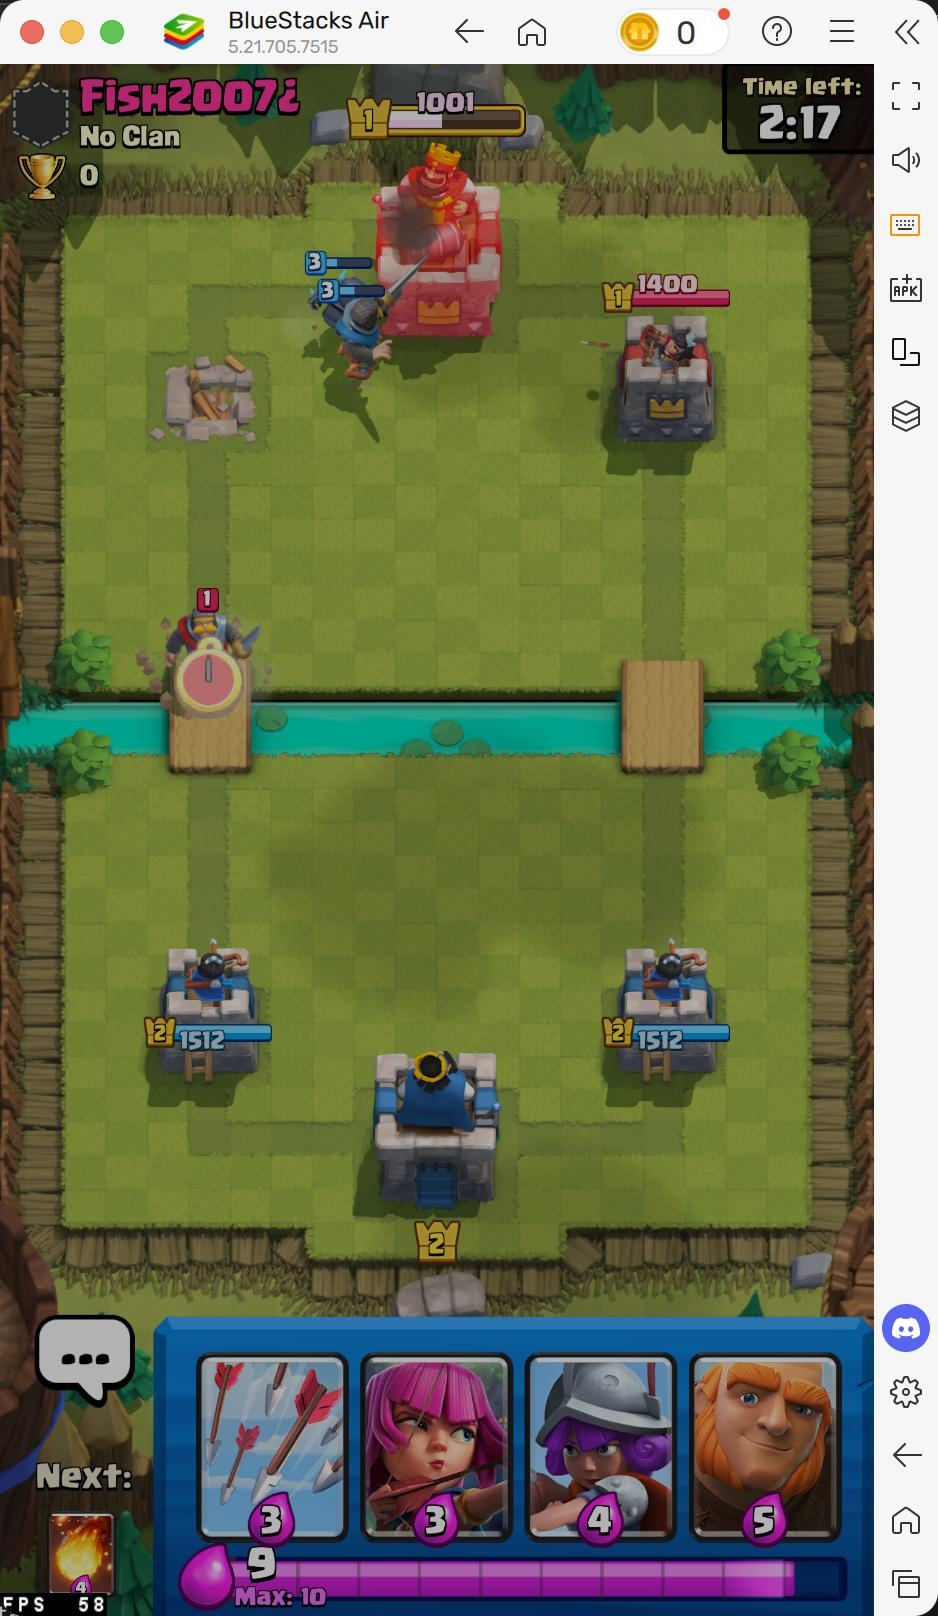0: (425, 89, 447, 115), (446, 90, 466, 115), (680, 271, 699, 295), (662, 272, 681, 295)
1: (800, 104, 815, 141), (414, 89, 427, 115), (463, 89, 476, 114), (636, 1029, 648, 1051), (659, 1029, 670, 1051), (636, 272, 648, 295), (179, 1029, 189, 1051), (201, 1029, 211, 1051)
2: (757, 103, 785, 141), (668, 1029, 685, 1051), (210, 1029, 226, 1051)
3: (257, 1500, 286, 1540), (422, 1501, 449, 1539)
4: (583, 1503, 616, 1538), (645, 271, 663, 295), (73, 1577, 89, 1598)
5: (750, 1502, 776, 1539), (644, 1029, 662, 1051), (188, 1029, 203, 1052)
7: (816, 104, 842, 141)
9: (245, 1543, 279, 1584)
Friendly Tower: (155, 943, 264, 1076), (618, 944, 717, 1076)
